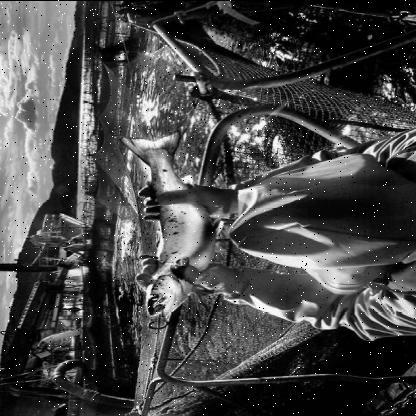fish: (115, 130, 223, 318)
